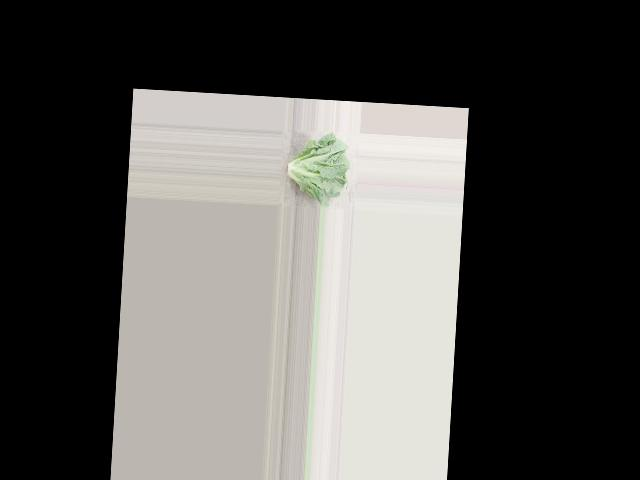lettuce: (280, 132, 353, 208)
